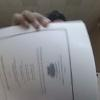notebook: (0, 19, 98, 99)
